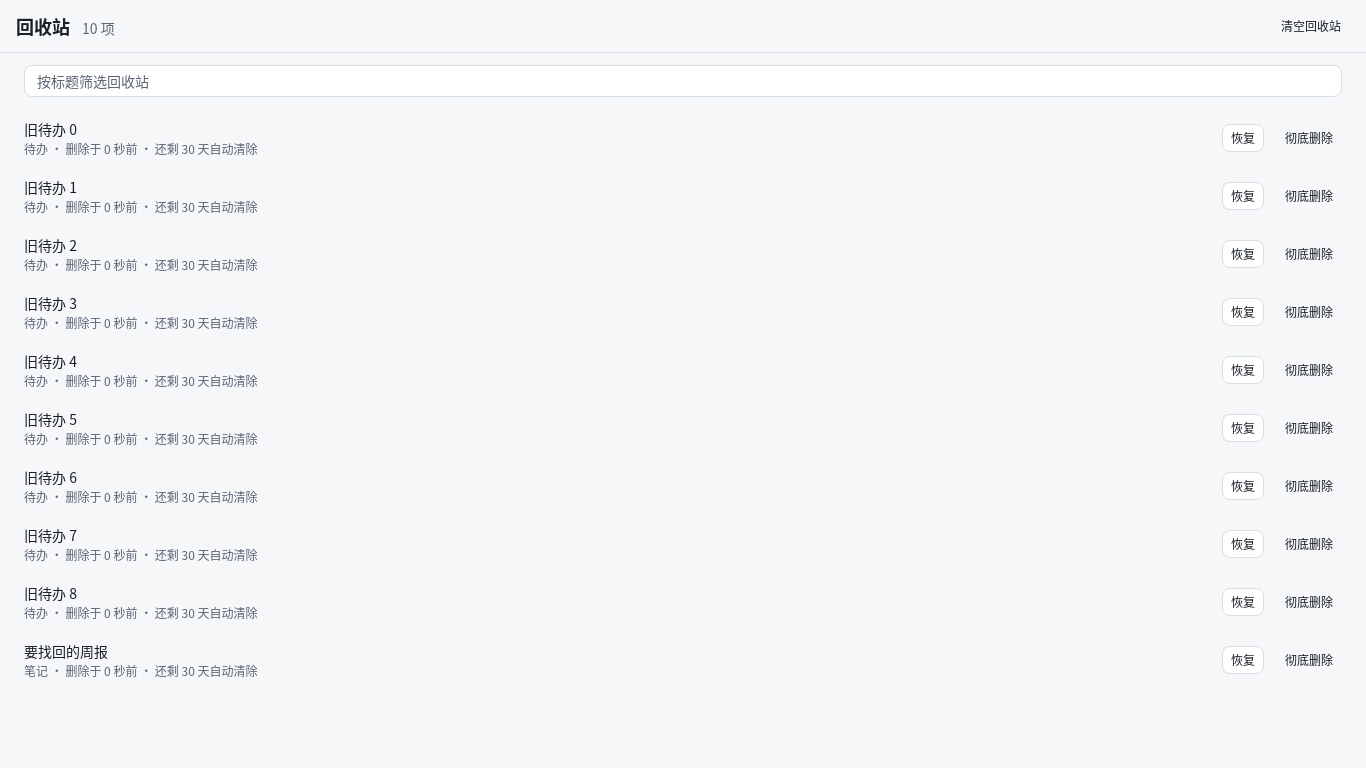
it: 回收站 › 项多时出现筛选框，按标题筛选；Esc 清空
Type "周报" into the search field labelled "按标题筛选回收站" at (683, 81), box [24,65,1342,97]
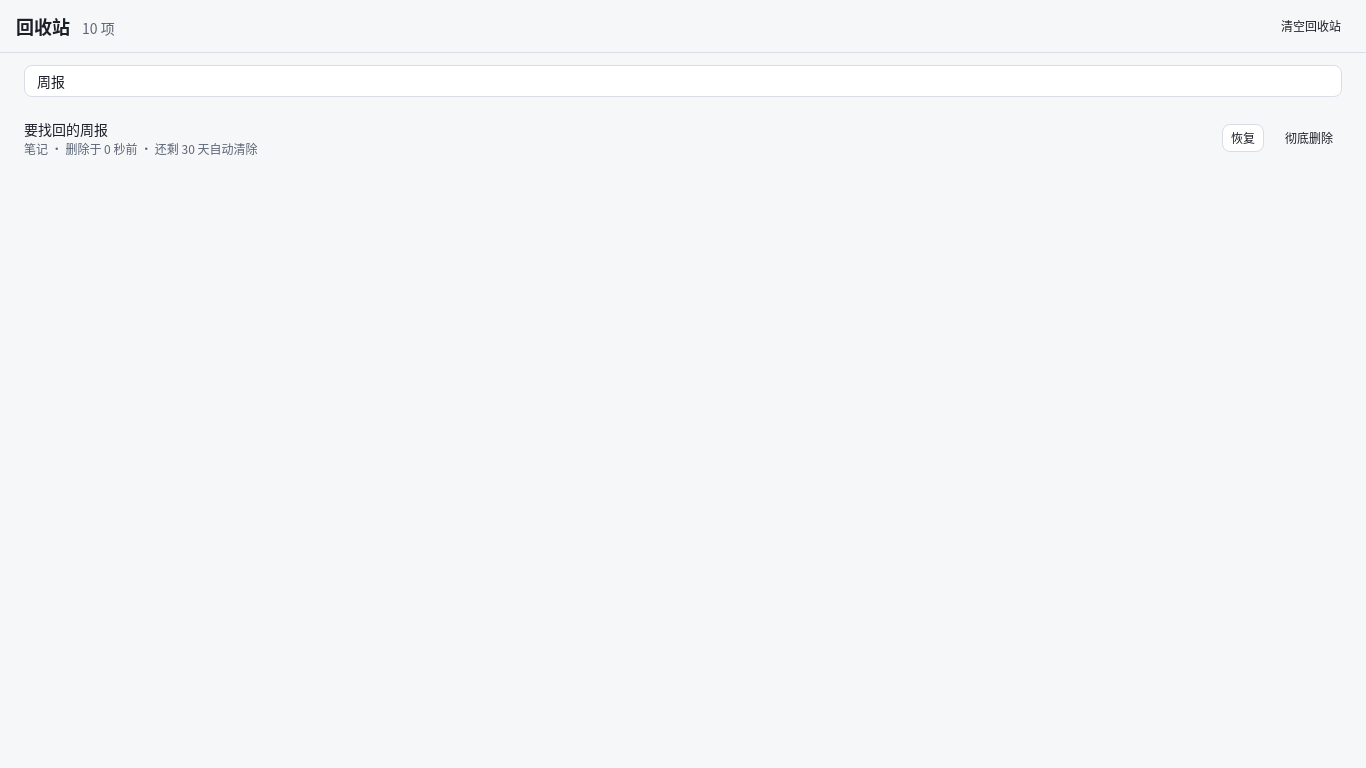
Check: the number of buttons "恢复" is 1, box [1222,124,1264,152]
Press ArrowDown in the search field named "按标题筛选回收站", box [24,65,1342,97]
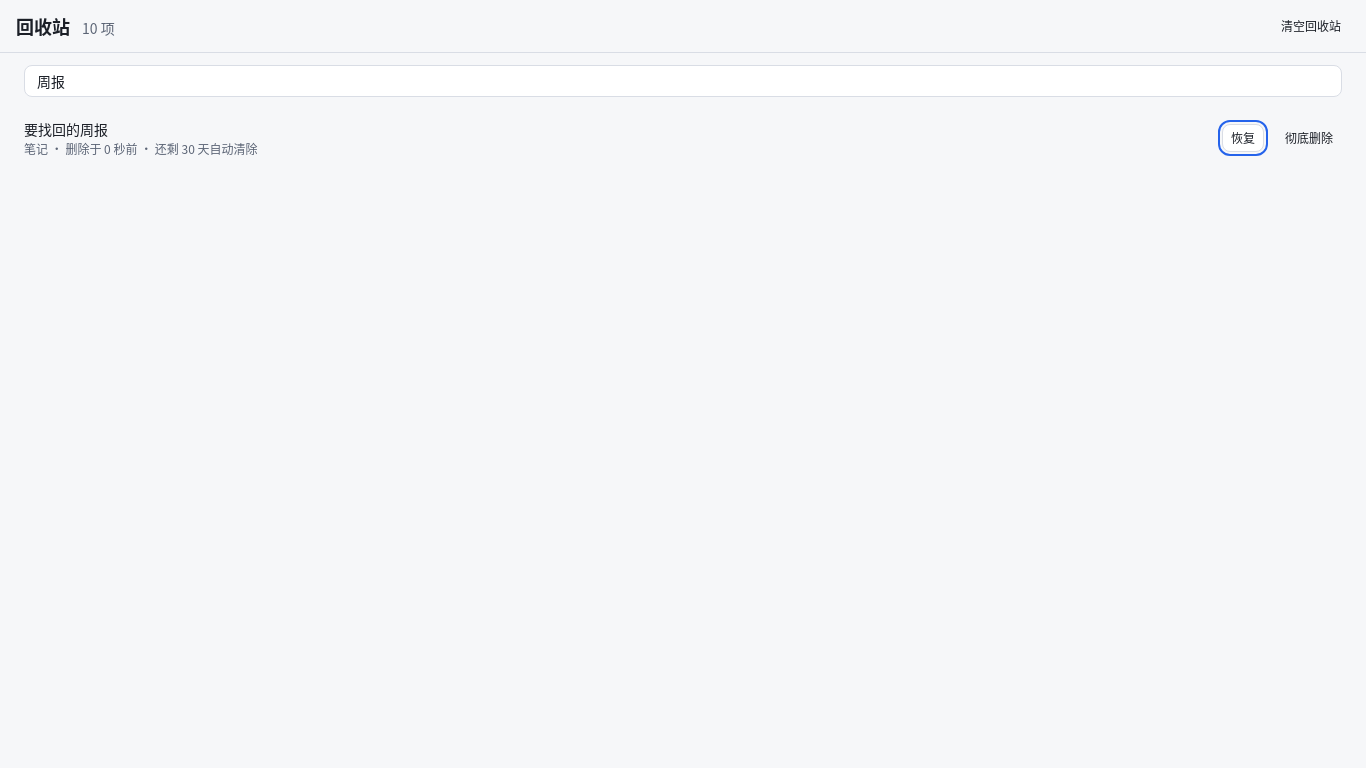
Replace the text in the search field named "按标题筛选回收站" with "没有这个词" at (683, 81), box [24,65,1342,97]
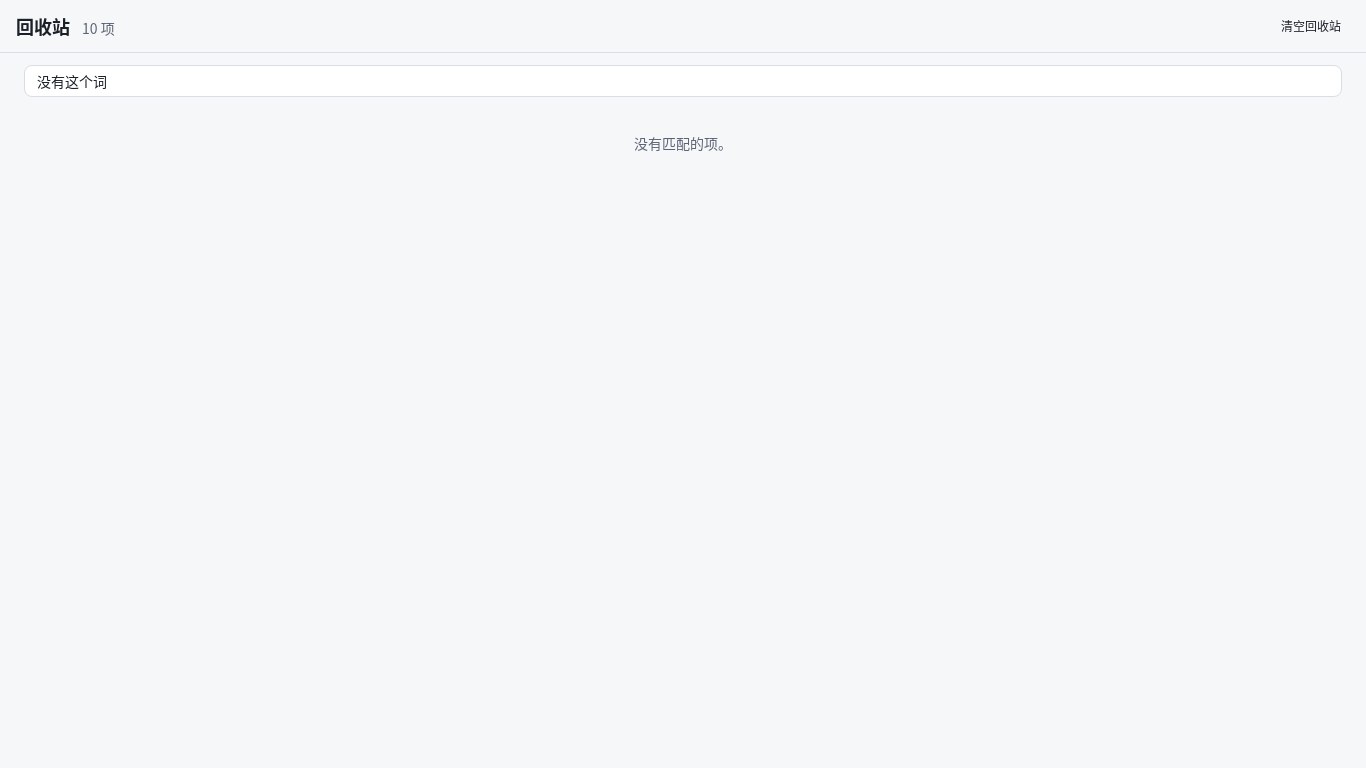
Check: the text "没有匹配的项。" is shown, box [634,133,732,153]
Press Escape in the search field named "按标题筛选回收站", box [24,65,1342,97]
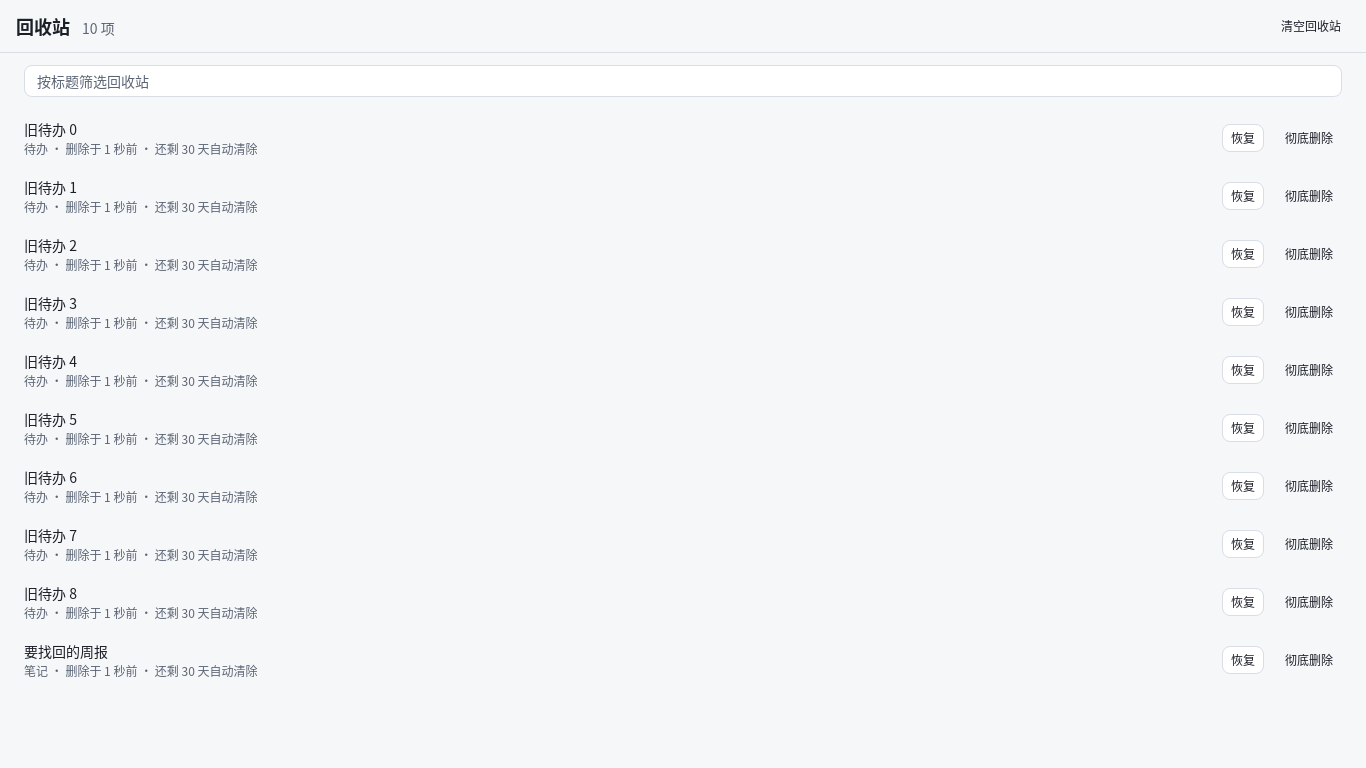
Check: the number of buttons "恢复" is 10
